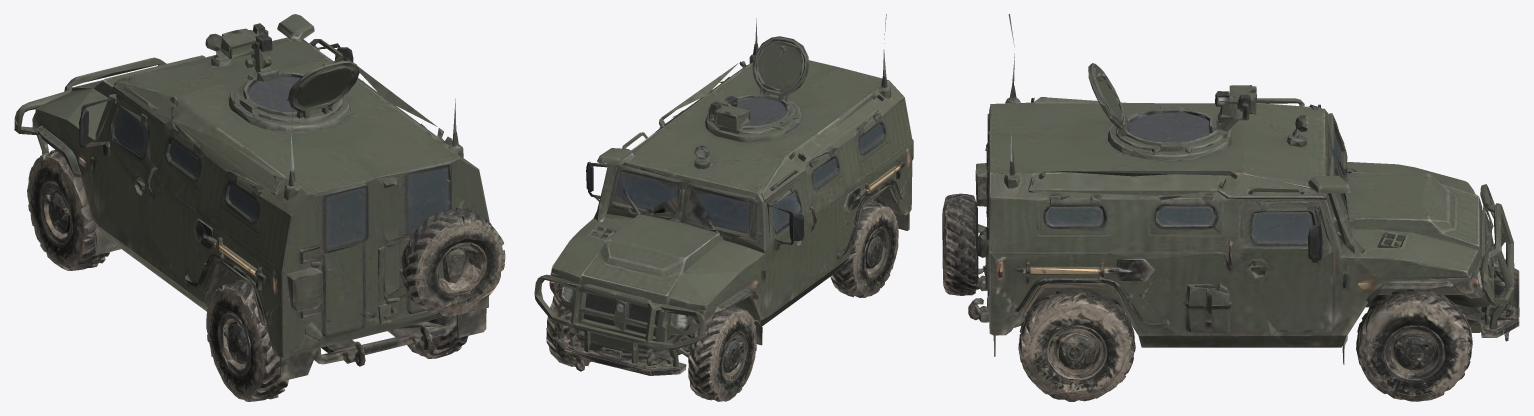
File: gaz_tigr_4x4_17k.glb
The picture shows the model from 3 angles, left to right: view 1: azimuth 30°, elevation 25°; view 2: azimuth 150°, elevation 25°; view 3: azimuth 270°, elevation 25°; orthographic projection. The views are drawn at different scales.
Visible parts, largest first — view 1: output_unwrapped; view 2: output_unwrapped; view 3: output_unwrapped.
Boxes of the visible parts, x1,y1,x2,y2 form: output_unwrapped: (14,14,505,401); output_unwrapped: (534,14,913,401); output_unwrapped: (942,14,1519,401).
Size of the model in its own units: 2.95 by 3.34 by 5.7.
1 material, 1 textured.
